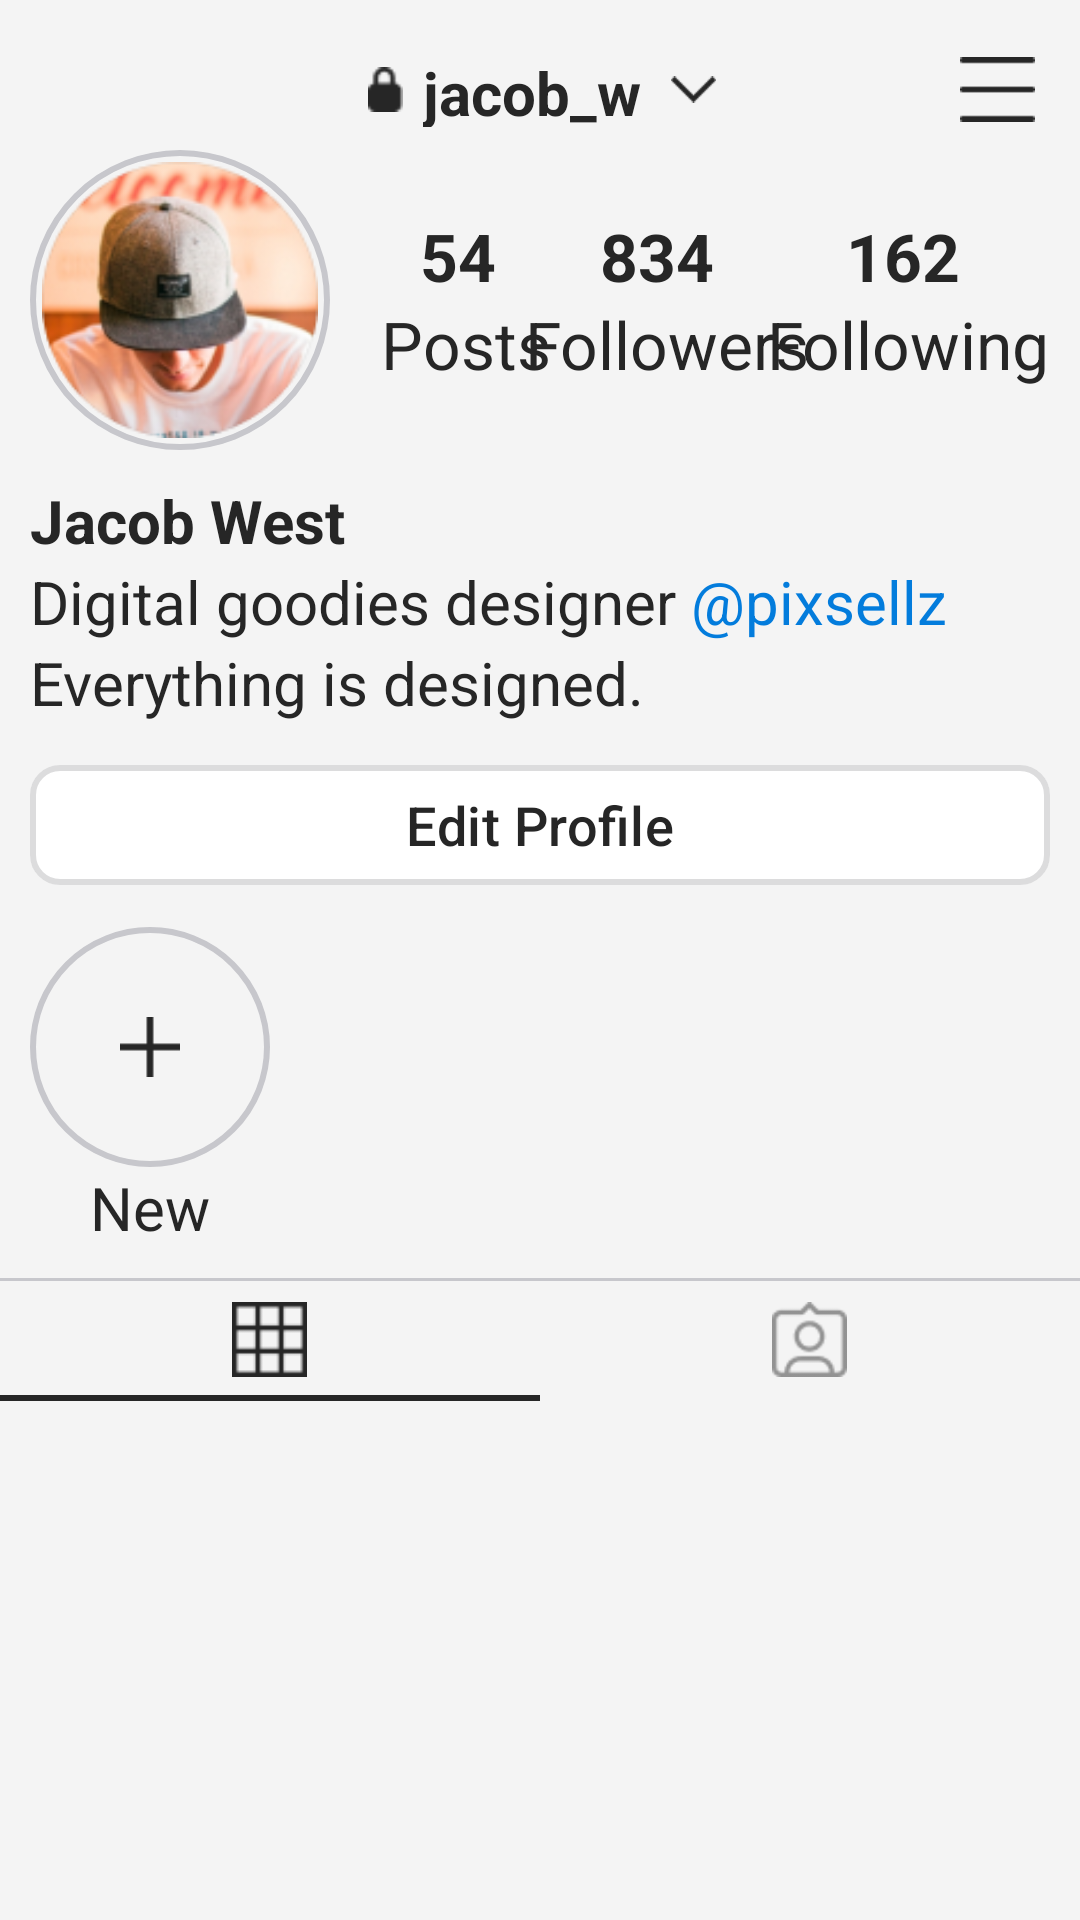

Icons on this 1080×1920 Android screen, each with its box as (x1, y1, x2, y2):
drop: (671, 76, 716, 103)
grid: (232, 1302, 307, 1377)
lock: (368, 67, 403, 112)
menu: (960, 57, 1035, 122)
plus: (120, 1017, 180, 1077)
